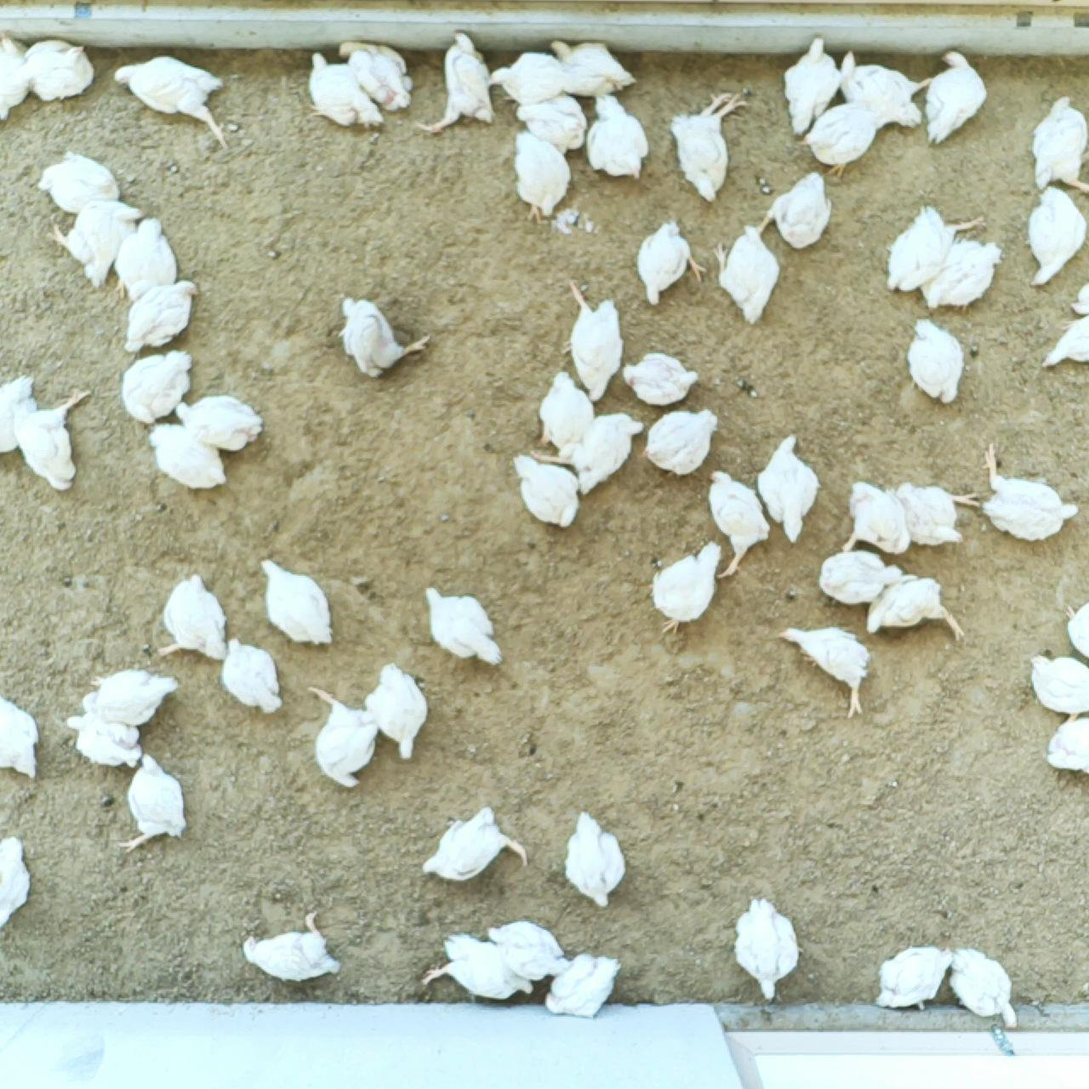chicken: (113, 55, 233, 150), (528, 411, 646, 500), (983, 442, 1082, 544), (885, 203, 989, 294), (46, 198, 148, 289), (419, 805, 530, 886), (776, 624, 872, 717), (11, 385, 93, 493), (413, 31, 497, 136), (669, 91, 743, 204), (419, 931, 535, 1001), (837, 48, 938, 128), (336, 296, 430, 379), (306, 682, 378, 790), (707, 466, 772, 583), (241, 909, 342, 984), (116, 752, 189, 854), (755, 433, 822, 544), (647, 538, 722, 637), (566, 279, 626, 402), (731, 896, 801, 1001), (712, 222, 783, 324), (1024, 183, 1089, 288), (260, 556, 335, 647), (157, 573, 231, 664), (361, 662, 429, 761), (424, 584, 505, 667), (866, 577, 966, 644), (304, 51, 385, 132), (636, 218, 709, 307), (562, 811, 628, 909), (798, 100, 878, 180), (918, 236, 1002, 312), (924, 48, 989, 145), (946, 945, 1020, 1030), (782, 37, 843, 139), (80, 667, 180, 728), (758, 172, 835, 251), (1030, 96, 1089, 199), (640, 403, 721, 478), (336, 37, 416, 111), (585, 91, 650, 181), (114, 215, 180, 303), (548, 37, 640, 99), (121, 279, 198, 353), (119, 347, 192, 425), (148, 422, 230, 491), (543, 953, 624, 1022), (174, 392, 265, 453), (513, 128, 572, 222), (36, 150, 121, 215), (872, 943, 952, 1012), (536, 369, 596, 460), (513, 452, 582, 530), (487, 920, 573, 982), (904, 318, 964, 404), (63, 706, 145, 767), (817, 550, 904, 607), (220, 637, 282, 716), (20, 39, 97, 102), (486, 48, 568, 107), (620, 350, 699, 408), (515, 94, 590, 154), (1030, 653, 1089, 717), (1, 693, 41, 781), (1038, 313, 1089, 371), (1, 835, 31, 932), (1, 373, 36, 455), (1, 28, 31, 123), (1044, 716, 1089, 778), (1063, 599, 1089, 662), (1072, 281, 1089, 316)
